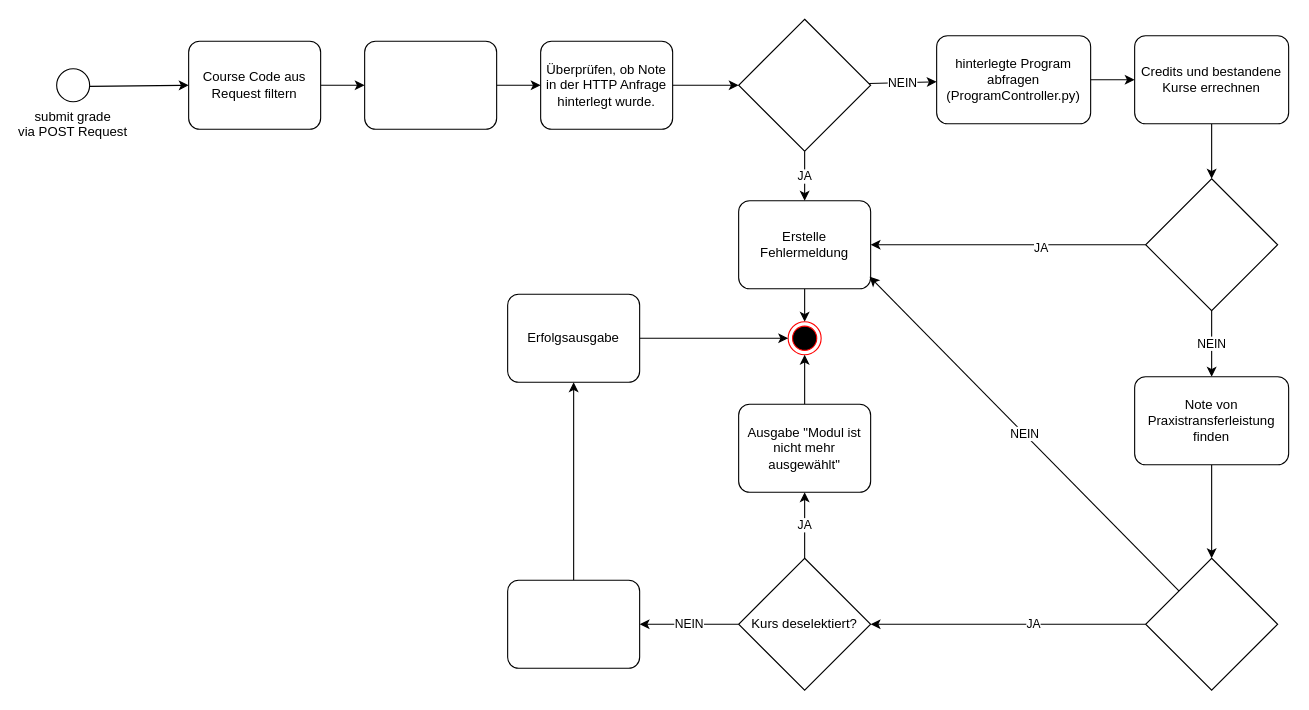
This 1309x710 diagram has some shape labels left out. Here are the shapes that lost their labels. From the top down, the centre of each, then its label:
At point 430,84: "Course Daten abrufen".
At point 804,84: "Modul ist Pflicht UND keine Note in ist in der Req".
At point 1211,244: "Bacherlorthesis wurde vor 140 Credits gewählt".
At point 573,623: "Schreibe neue Modul-Information in das Program".
At point 1211,623: "Praxistransfer bestanden?".
